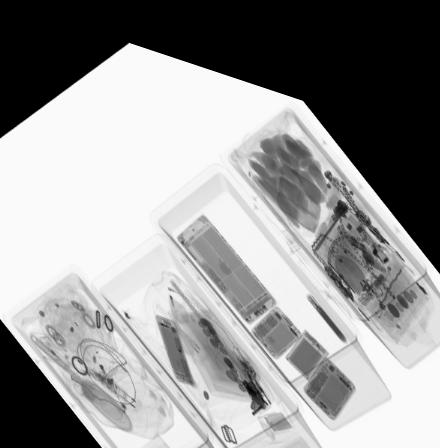Lighter: (242, 353, 269, 390)
